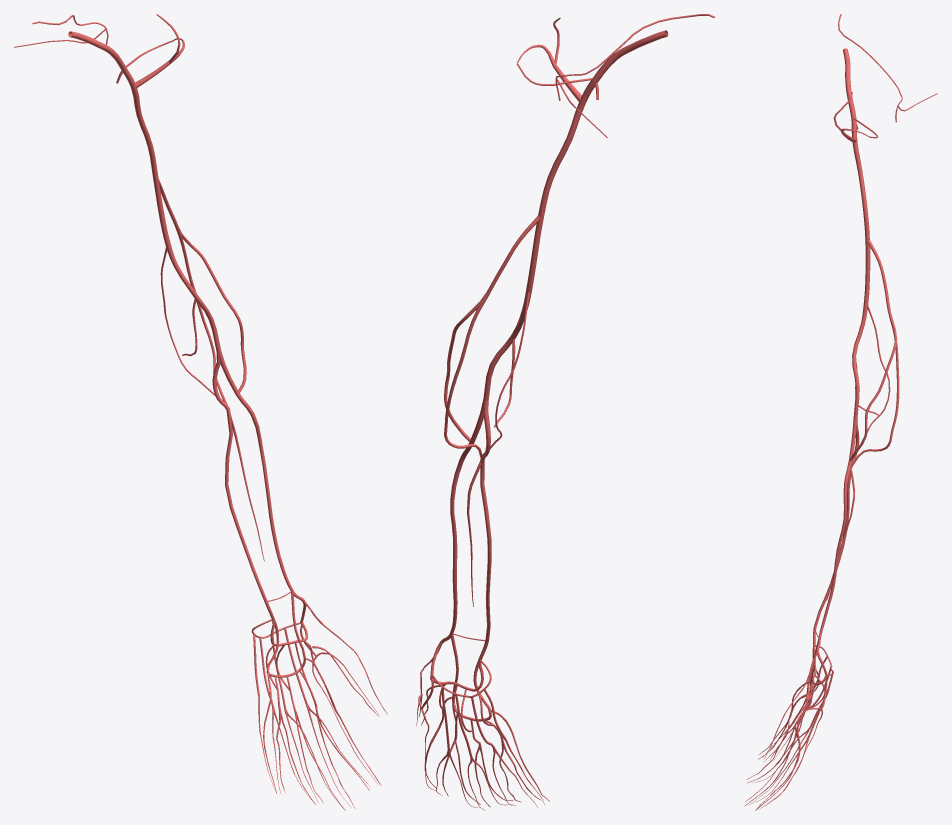
Rendered from arteries.glb.
3 views of the same model, side by side, from view 1: azimuth 30°, elevation 25°; view 2: azimuth 150°, elevation 25°; view 3: azimuth 270°, elevation 25° (orthographic). The views are drawn at different scales.
Visible parts, largest first — view 1: Proper palmar digital arteries.l.001, Brachial artery.l.001, Dorsal digital arteries of hand.l.001, Radial artery.l.001, Ulnar artery.l.001, Dorsal metacarpal arteries.l.001; view 2: Brachial artery.l.001, Radial artery.l.001, Proper palmar digital arteries.l.001, Ulnar artery.l.001, Dorsal digital arteries of hand.l.001, Dorsal metacarpal arteries.l.001, Axillary artery.l.001, Radial collateral artery.l.001, Suprascapular artery.l.001, Anterior circumflex humeral artery.l.001; view 3: Brachial artery.l.001, Proper palmar digital arteries.l.001, Radial artery.l.001, Dorsal digital arteries of hand.l.001, Ulnar artery.l.001, Radial collateral artery.l.001, Axillary artery.l.001, Dorsal metacarpal arteries.l.001.
Part boxes in pixels (box(x1,y1,x2,y2)): Proper palmar digital arteries.l.001: box(263, 601, 387, 810); Brachial artery.l.001: box(123, 68, 221, 352); Dorsal digital arteries of hand.l.001: box(258, 652, 378, 807); Radial artery.l.001: box(218, 351, 306, 622); Ulnar artery.l.001: box(212, 352, 274, 619); Dorsal metacarpal arteries.l.001: box(253, 623, 316, 709); Brachial artery.l.001: box(483, 80, 595, 400); Radial artery.l.001: box(430, 399, 483, 675); Proper palmar digital arteries.l.001: box(418, 645, 549, 806); Ulnar artery.l.001: box(478, 400, 491, 660); Dorsal digital arteries of hand.l.001: box(416, 694, 544, 810); Dorsal metacarpal arteries.l.001: box(421, 675, 506, 757); Axillary artery.l.001: box(592, 30, 668, 82); Radial collateral artery.l.001: box(444, 293, 487, 442); Suprascapular artery.l.001: box(555, 14, 714, 137); Anterior circumflex humeral artery.l.001: box(517, 17, 581, 102); Brachial artery.l.001: box(851, 118, 870, 417); Proper palmar digital arteries.l.001: box(744, 652, 817, 810); Radial artery.l.001: box(816, 417, 857, 675); Dorsal digital arteries of hand.l.001: box(748, 698, 822, 809); Ulnar artery.l.001: box(813, 419, 859, 646); Radial collateral artery.l.001: box(849, 311, 897, 461); Axillary artery.l.001: box(843, 48, 856, 118); Dorsal metacarpal arteries.l.001: box(809, 656, 832, 734).
Size of the model in its own units: 0.2908 by 0.7258 by 0.186.
